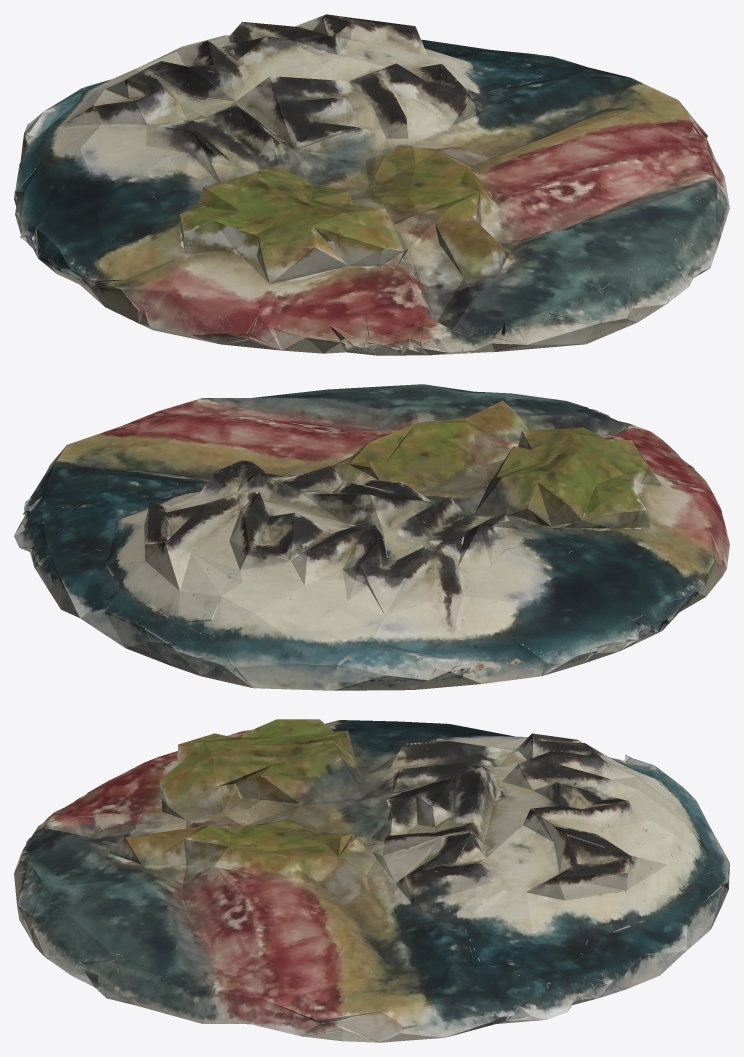
The model's file is 6379EA32-A534-C246-8D96-4BFCE2179CF2_512.glb.
3 views of the same model, one above another, from view 1: azimuth 30°, elevation 25°; view 2: azimuth 150°, elevation 25°; view 3: azimuth 270°, elevation 25° (orthographic).
Visible parts, largest first — view 1: WAA Anstecker 1k; view 2: WAA Anstecker 1k; view 3: WAA Anstecker 1k.
Part boxes in pixels (box(x1,y1,x2,y2)): WAA Anstecker 1k: box(14, 14, 729, 355); WAA Anstecker 1k: box(14, 384, 729, 690); WAA Anstecker 1k: box(14, 719, 729, 1042).
Size of the model in its own units: 0.0555 by 0.0138 by 0.0557.
1 material, 1 textured.
